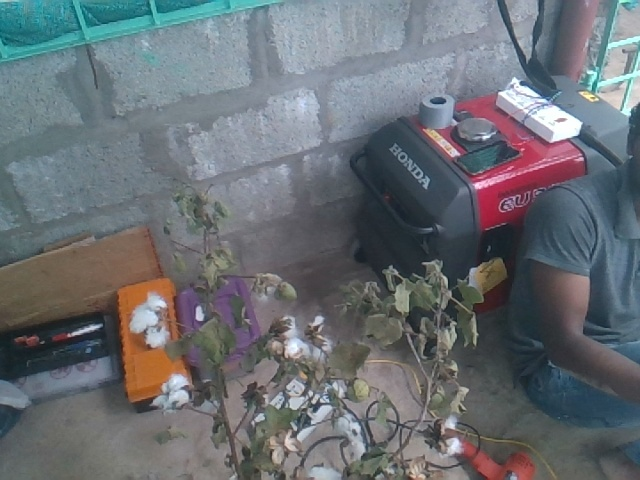cotton: (129, 293, 165, 349), (157, 377, 188, 416), (340, 415, 361, 458), (284, 338, 307, 358)
